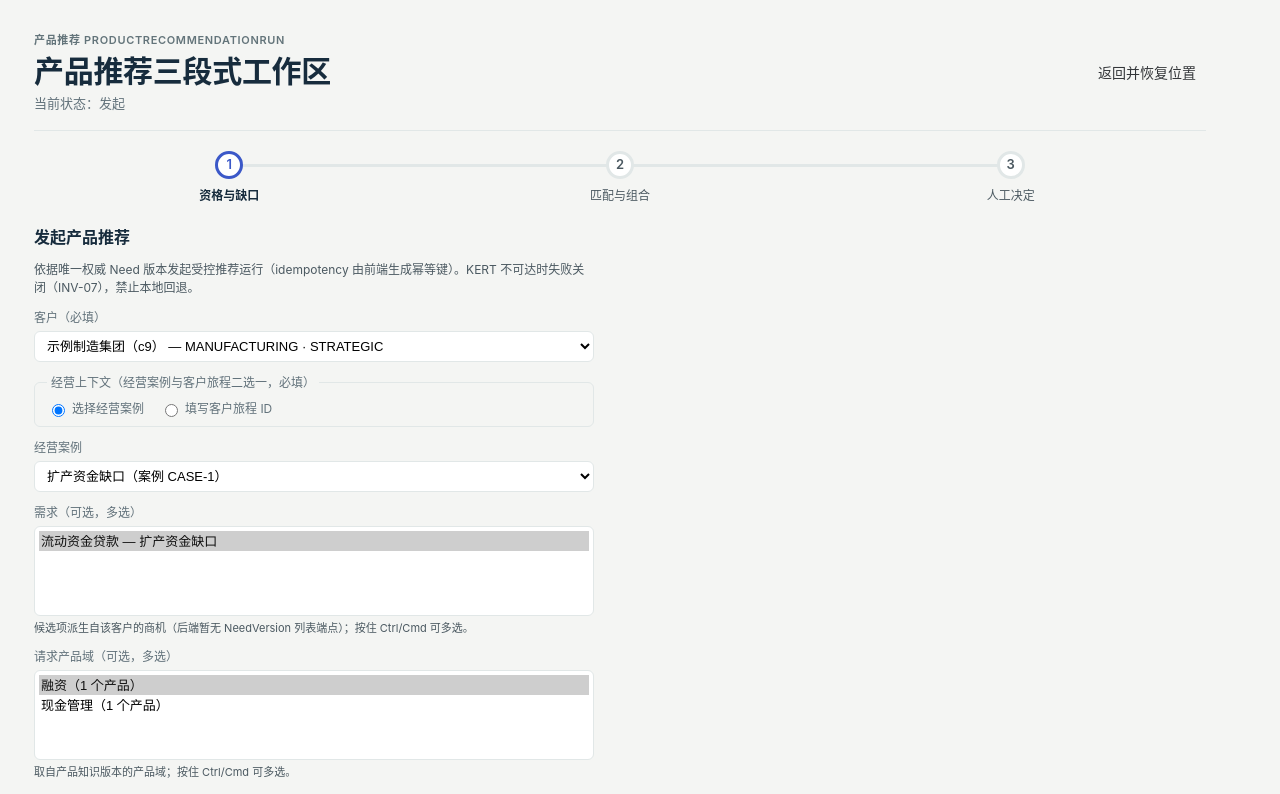
WP5-1 ProductRecommendationWorkspace › prefills defaults from loaded options and keeps selections consistent with the chosen customer
Check: the dropdown with test id "pr-create-opcase" shows "扩产资金缺口（案例 CASE-1）", box [34, 460, 594, 492]
Select "示例贸易公司（c10） — WHOLESALE_RETAIL · KEY" in the dropdown with test id "pr-create-customer" at {"x": 314, "y": 346}, box [34, 330, 594, 362]
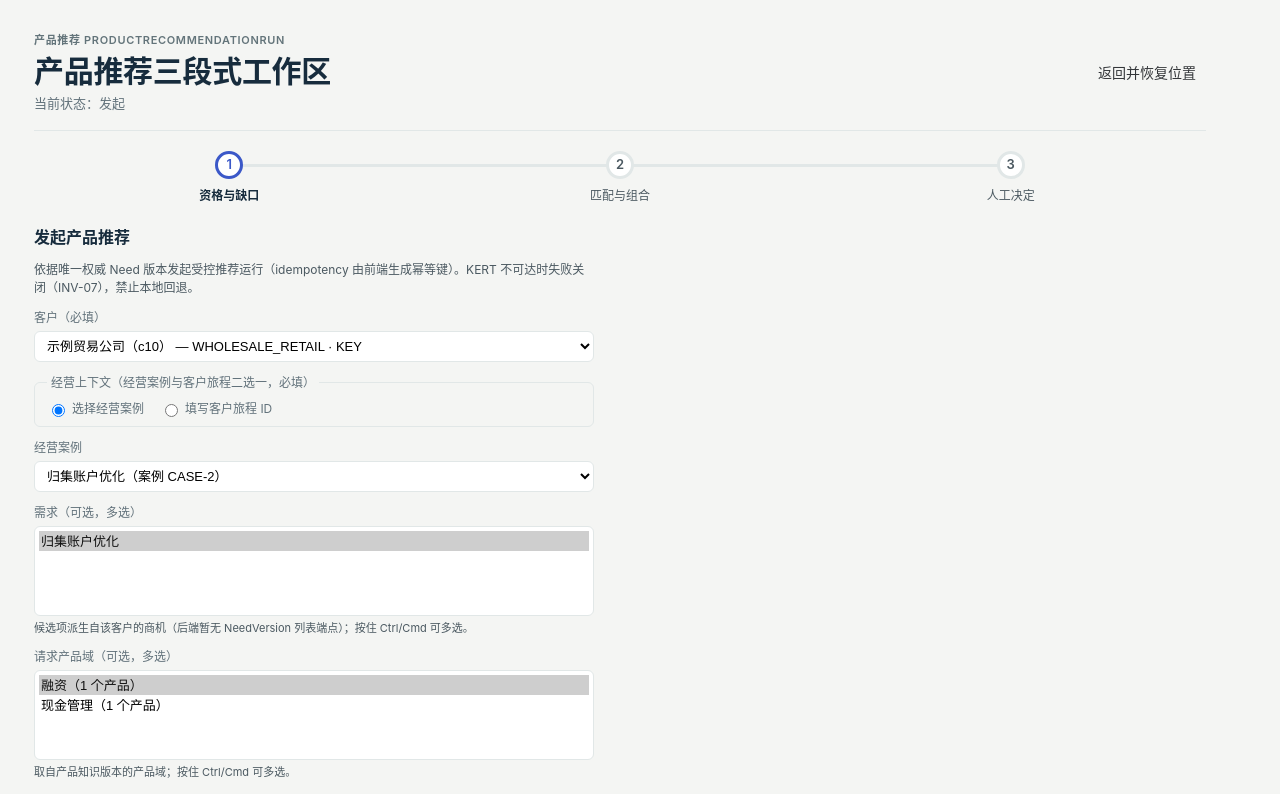
Check: the dropdown with test id "pr-create-opcase" shows "归集账户优化（案例 CASE-2）", box [34, 460, 594, 492]
